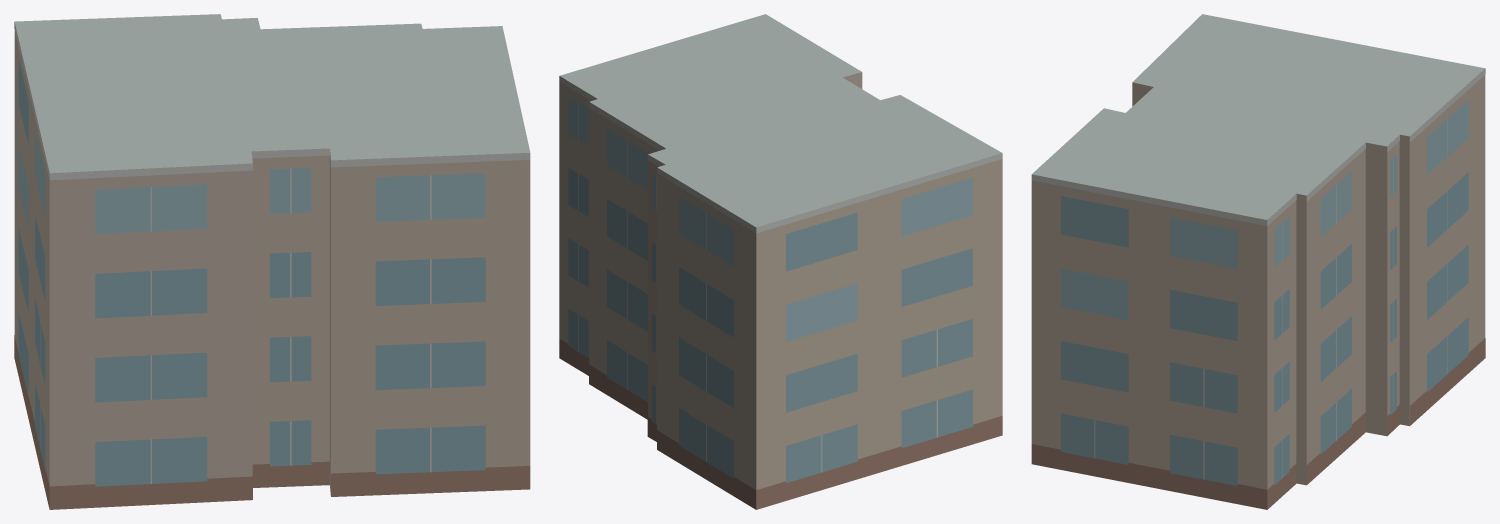
The model's file is survey-upis-33010662.glb.
3 views of the same model, side by side, from view 1: azimuth 30°, elevation 25°; view 2: azimuth 150°, elevation 25°; view 3: azimuth 270°, elevation 25° (orthographic). The views are drawn at different scales.
Visible parts, largest first — view 1: survey-upis-33010662.tmp; view 2: survey-upis-33010662.tmp; view 3: survey-upis-33010662.tmp.
Part boxes in pixels (<box>): survey-upis-33010662.tmp: <box>14,14,530,509</box>; survey-upis-33010662.tmp: <box>559,14,1002,509</box>; survey-upis-33010662.tmp: <box>1031,14,1485,509</box>.
Bounding box in the file's own units: 17.7 × 11.6 × 16.47.
